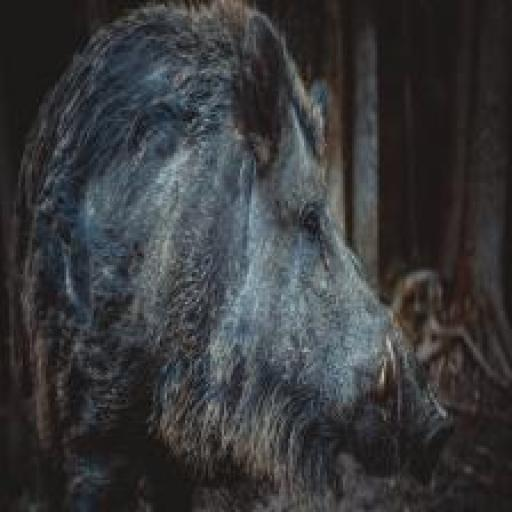Pig: (7, 0, 456, 512)
